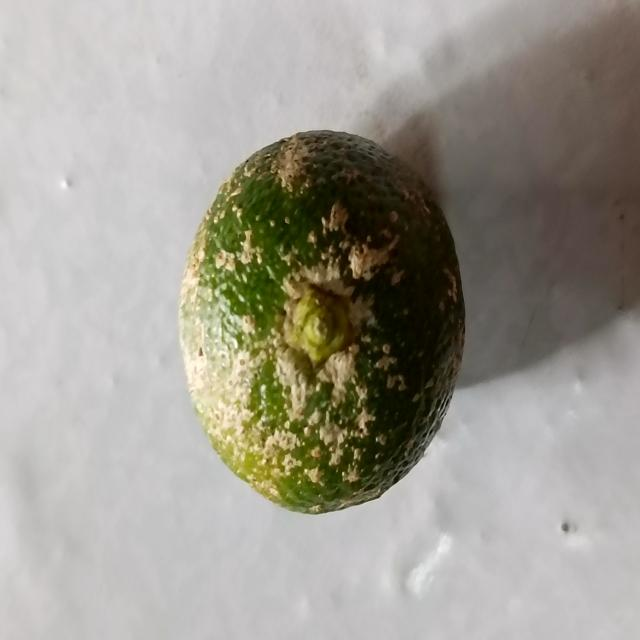scab: (175, 113, 468, 521)
